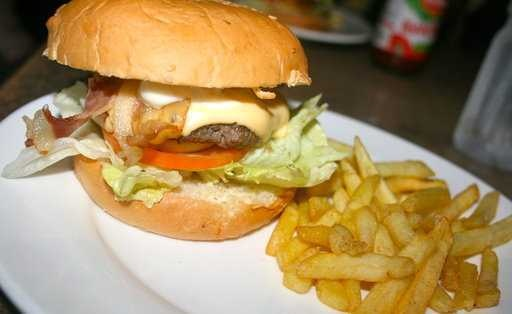hamburger: (59, 4, 319, 235)
